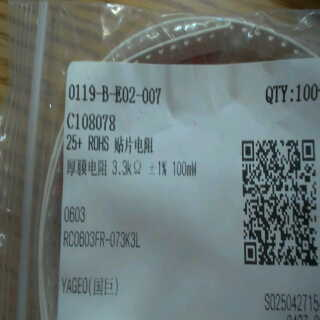3.3kO: (110, 159, 145, 177)
